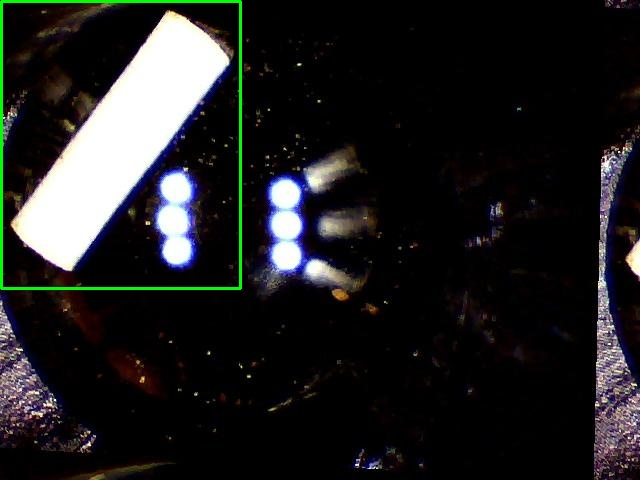megot: (1, 1, 240, 288)
